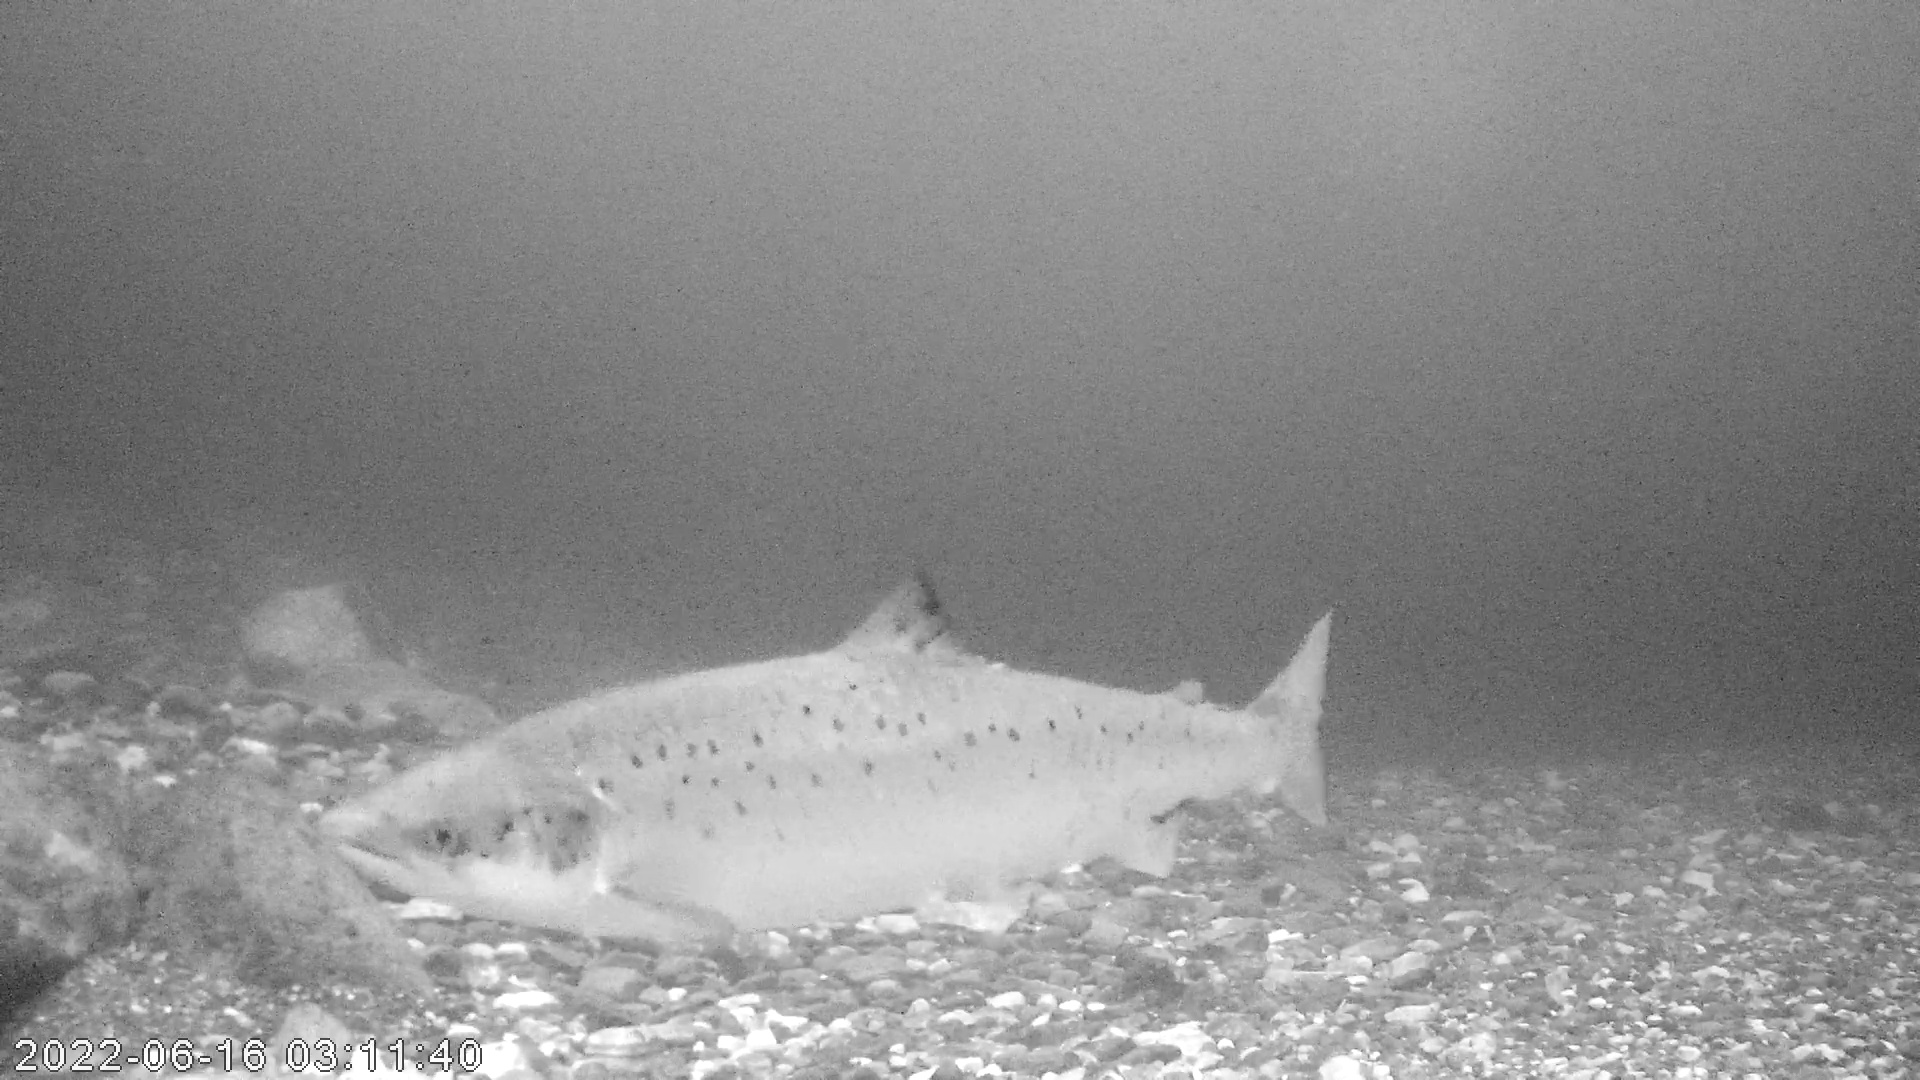salmon: (318, 560, 1335, 943)
